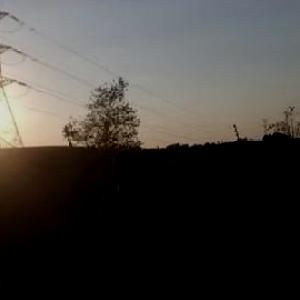follow: (95, 148, 174, 299)
